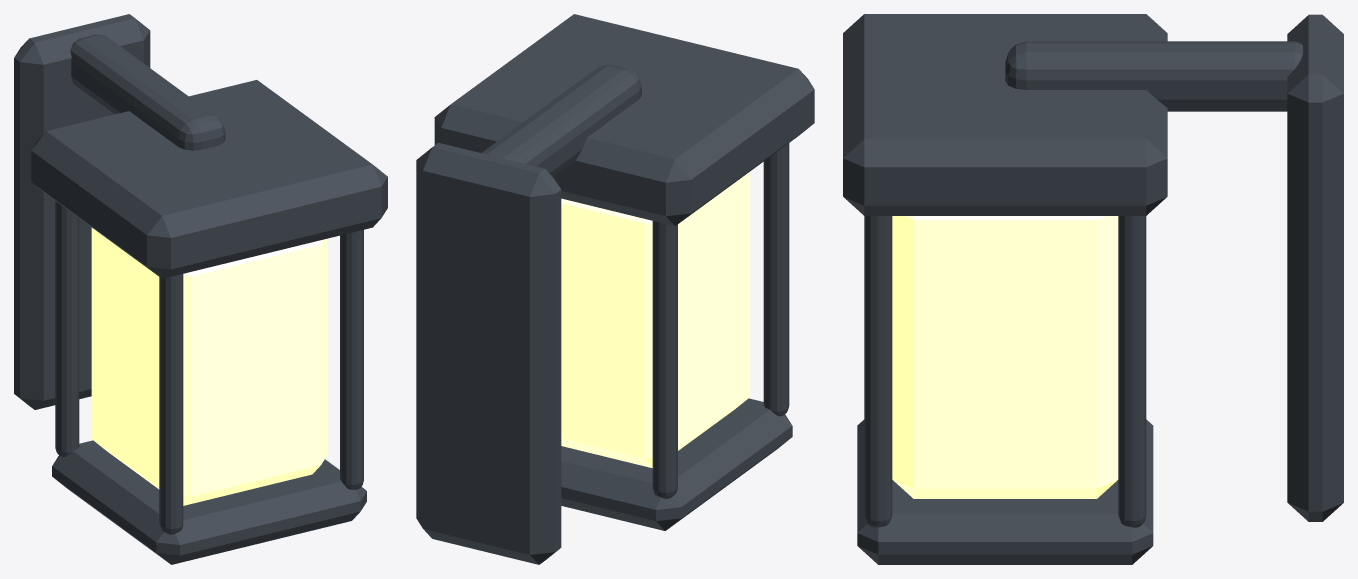
File: wall-lantern.glb
The picture shows the model from 3 angles, left to right: view 1: azimuth 30°, elevation 25°; view 2: azimuth 150°, elevation 25°; view 3: azimuth 270°, elevation 25°; orthographic projection. The views are drawn at different scales.
Visible parts, largest first — view 1: wall_lantern; view 2: wall_lantern; view 3: wall_lantern.
Part boxes in pixels (left/top/right/bottom): wall_lantern: left=14, top=14, right=387, bottom=564; wall_lantern: left=416, top=14, right=814, bottom=564; wall_lantern: left=843, top=14, right=1343, bottom=564.
Size of the model in its own units: 0.24 by 0.365 by 0.355.
